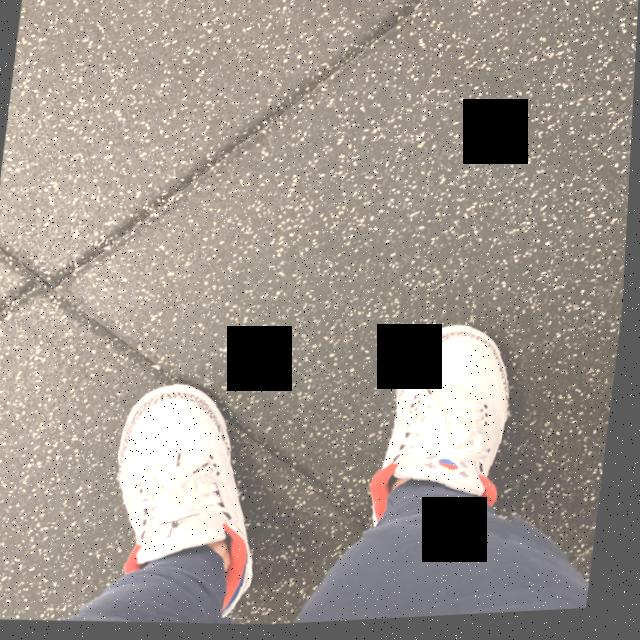shoe: (85, 363, 306, 630), (367, 312, 550, 553)
